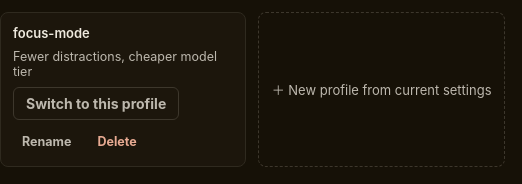
Test: ProfilesSection › new profile card › Cancel puts the card back without creating anything
The image size is (522, 184).
Click the button "＋ New profile from current settings". click: click(382, 90)
box: [258,12,505,167]
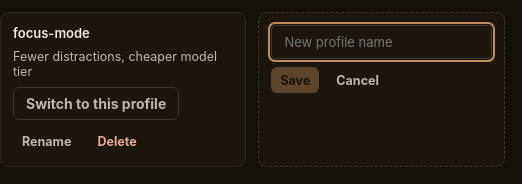
Click the button "Cancel". click: click(358, 80)
box: [327,67,388,93]
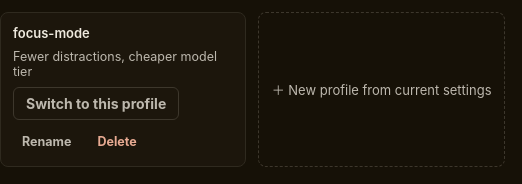
Now the button "＋ New profile from current settings" is shown, box [258,12,505,167]
